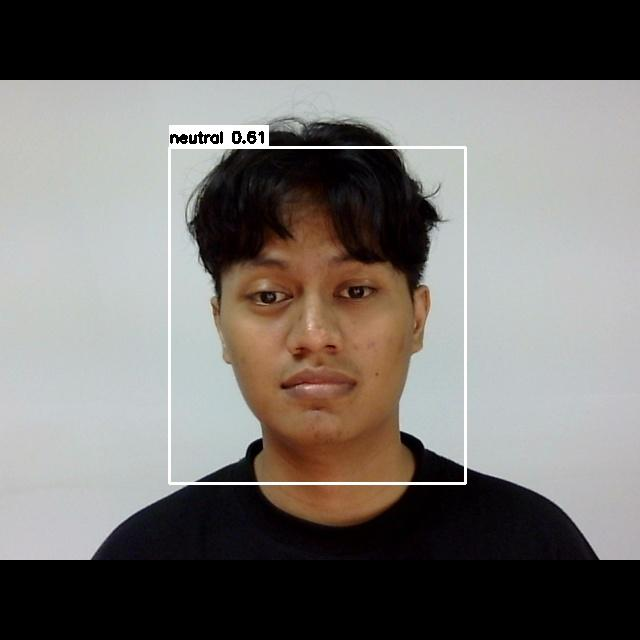Fear: (217, 228, 423, 430)
